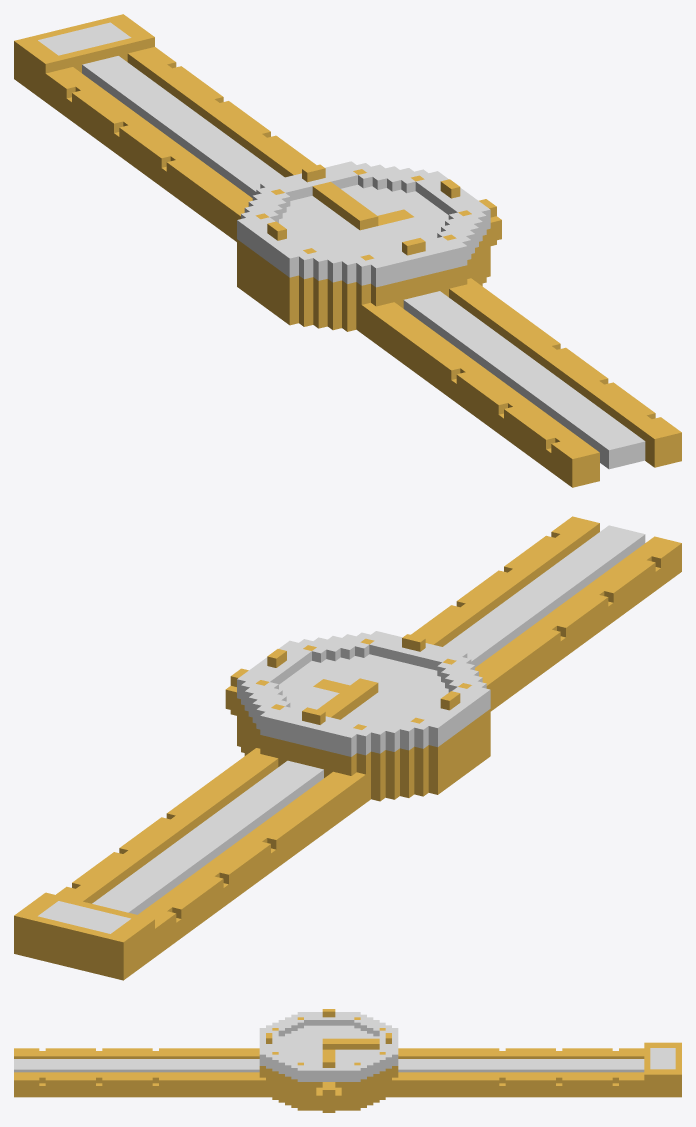
File: sf_watch.glb
3 views of the same model, one above another, from view 1: azimuth 30°, elevation 25°; view 2: azimuth 150°, elevation 25°; view 3: azimuth 270°, elevation 25° (orthographic). The views are drawn at different scales.
Visible parts, largest first — view 1: sf_watch:compound; view 2: sf_watch:compound; view 3: sf_watch:compound.
Boxes of the visible parts, x1,y1,x2,y2 form: sf_watch:compound: [14, 14, 681, 487]; sf_watch:compound: [14, 516, 681, 980]; sf_watch:compound: [14, 1009, 681, 1112].
Size of the model in its own units: 0.05 by 0.016 by 0.212.
